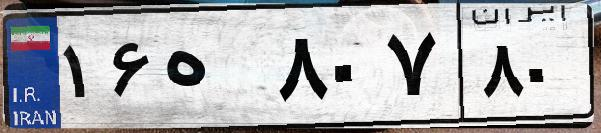0: (330, 28, 385, 110), (525, 38, 570, 115)
1: (57, 26, 110, 100)
6: (110, 28, 158, 98)
7: (385, 28, 445, 110)
8: (270, 28, 330, 110), (475, 38, 525, 113)
ه: (158, 20, 270, 120)
